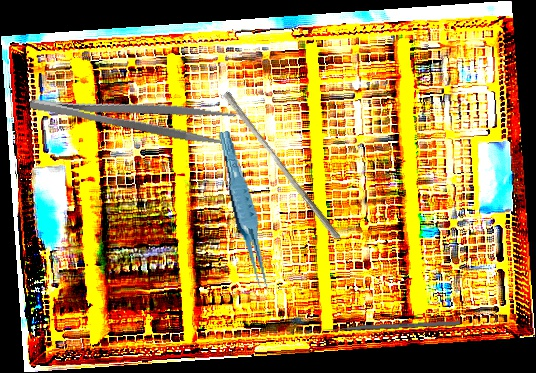Dressing Forceps: (28, 76, 238, 150)
Pusher: (217, 89, 348, 243), (318, 320, 461, 333)
Tissue Forceps: (217, 128, 271, 295)
